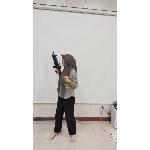Golok: (60, 53, 70, 91)
Senapan: (50, 49, 64, 77)
